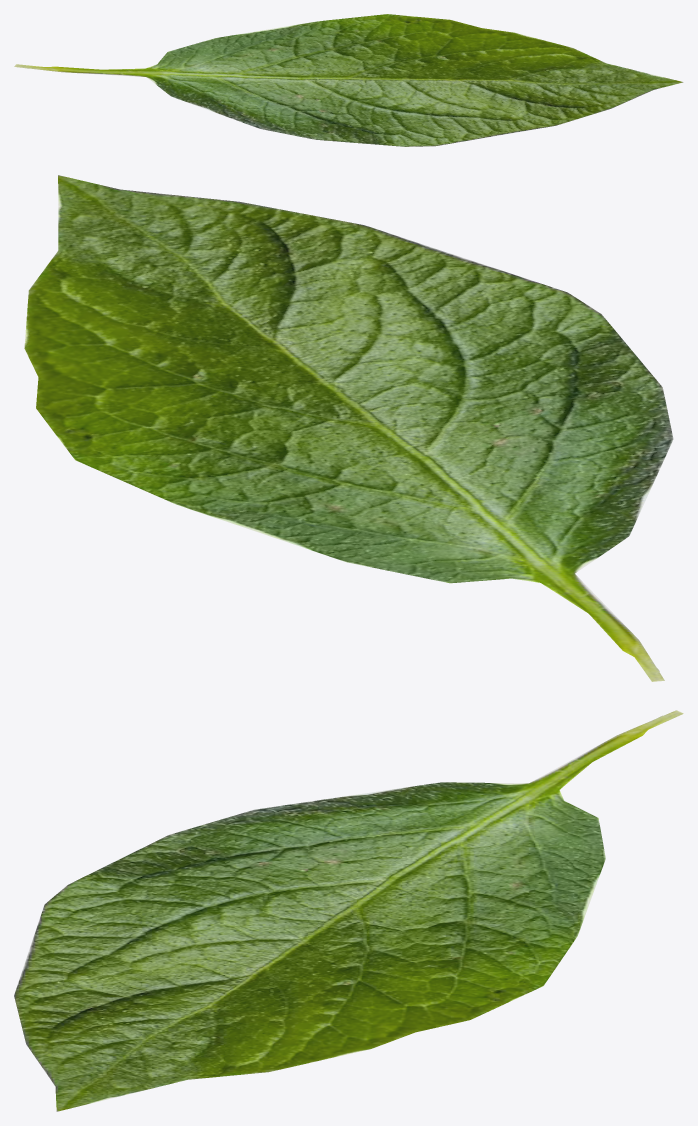
The model's file is leaf_model.glb.
3 renders of one model, top to bottom at view 1: azimuth 30°, elevation 25°; view 2: azimuth 150°, elevation 25°; view 3: azimuth 270°, elevation 25°, orthographic. The views are drawn at different scales.
Visible parts, largest first — view 1: LeafObject; view 2: LeafObject; view 3: LeafObject.
Boxes of the visible parts, box(x1,y1,x2,y2) form: LeafObject: box(14, 14, 683, 146); LeafObject: box(24, 175, 673, 681); LeafObject: box(14, 710, 683, 1111).
Size of the model in its own units: 779 by 0 by 549.
1 material, 1 textured.
